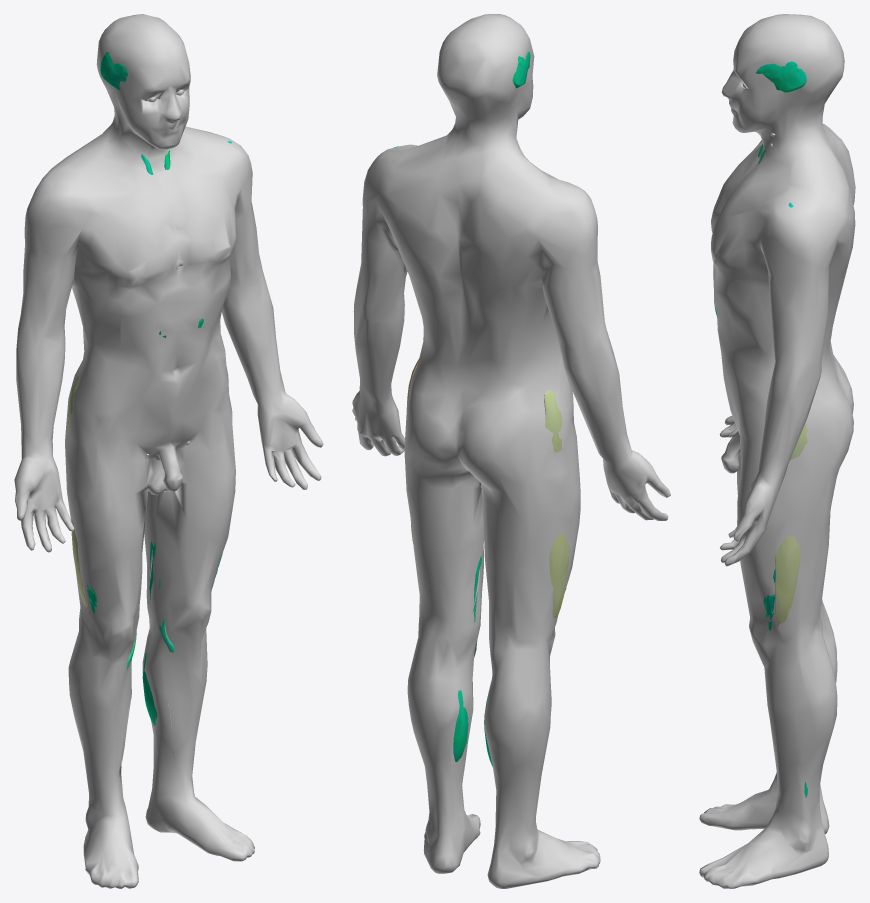
The model's file is human.glb.
The picture shows the model from 3 angles, left to right: view 1: azimuth 30°, elevation 25°; view 2: azimuth 150°, elevation 25°; view 3: azimuth 270°, elevation 25°; orthographic projection. The views are drawn at different scales.
Visible parts, largest first — view 1: skin--skin, musculo--muscles_leg_r, musculo--muscles_leg_l, musculo--muscles_head; view 2: skin--skin, musculo--muscles_leg_r, musculo--muscles_leg_l; view 3: skin--skin, musculo--muscles_leg_l, musculo--muscles_head.
Part boxes in pixels (x1,y1,x2,y2): skin--skin: [14, 14, 323, 888]; musculo--muscles_leg_r: [68, 375, 136, 669]; musculo--muscles_leg_l: [142, 541, 222, 725]; musculo--muscles_head: [100, 52, 156, 100]; skin--skin: [352, 14, 670, 888]; musculo--muscles_leg_r: [484, 389, 569, 767]; musculo--muscles_leg_l: [406, 357, 482, 761]; skin--skin: [699, 14, 855, 888]; musculo--muscles_leg_l: [763, 423, 807, 797]; musculo--muscles_head: [756, 61, 806, 92].
Bounding box in the file's own units: 0.6654 × 1.72 × 0.2919.
